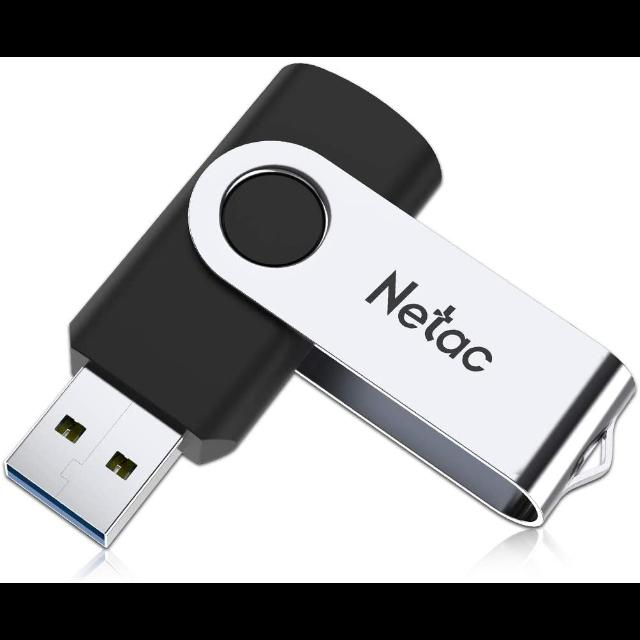USB-Flash-Drive: (4, 63, 638, 552)
